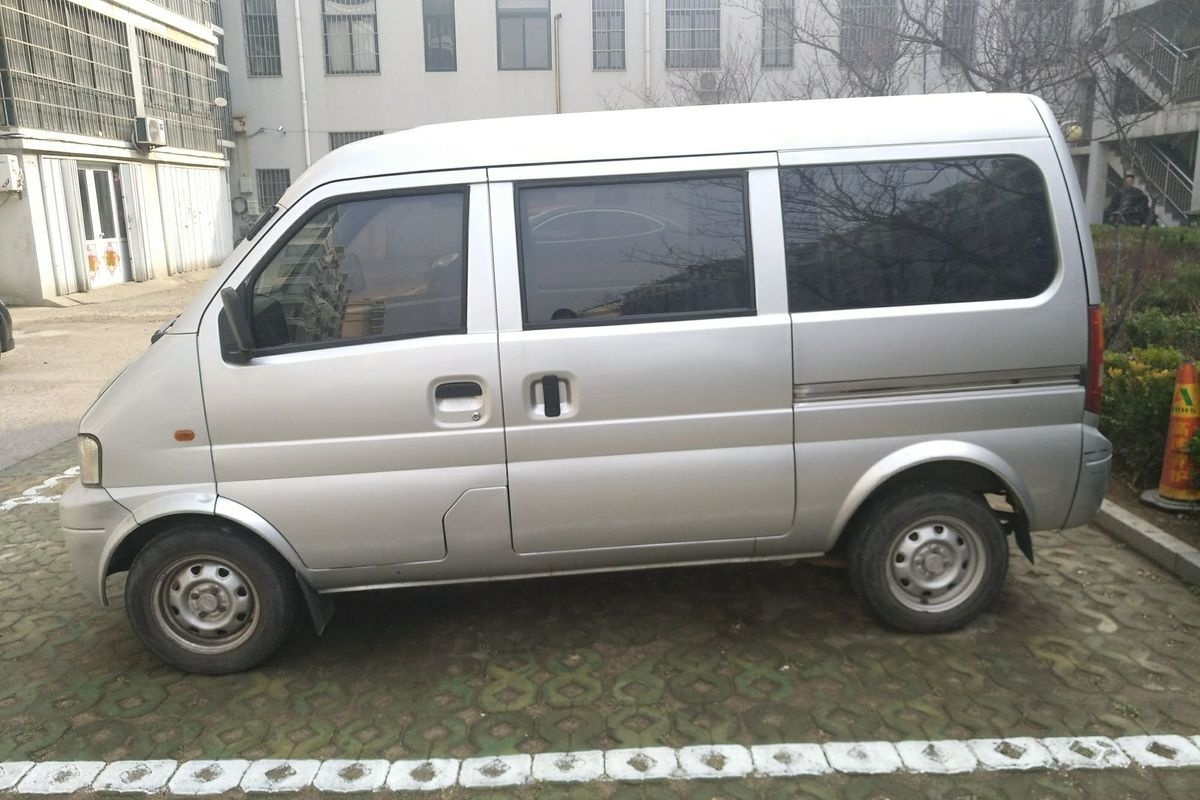minibus: (55, 134, 1119, 664)
